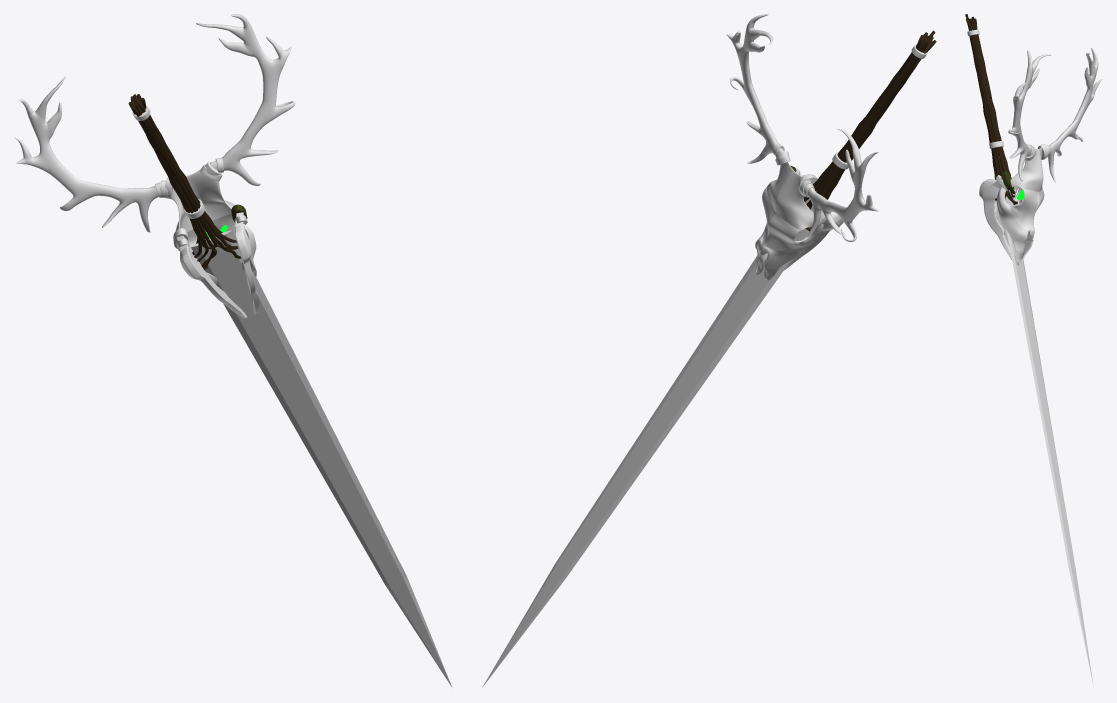
The model's file is deerSword.fbx.
3 renders of one model, left to right at view 1: azimuth 30°, elevation 25°; view 2: azimuth 150°, elevation 25°; view 3: azimuth 270°, elevation 25°, orthographic. The views are drawn at different scales.
Parts seen in each view (by area): view 1: Sword, Horns, UpperSkull, BottomJav; view 2: Sword, Horns, UpperSkull; view 3: Sword, UpperSkull, Horns, BottomJav, Cylinder.001, Cylinder.008, Cylinder.012, Cylinder.004, Cylinder.009, Cylinder.015.
Boxes of the visible parts, left/top/right/bottom form: Sword: left=191, top=230, right=452, bottom=687; Horns: left=14, top=14, right=294, bottom=232; UpperSkull: left=172, top=168, right=256, bottom=284; BottomJav: left=176, top=212, right=259, bottom=318; Sword: left=482, top=196, right=812, bottom=687; Horns: left=726, top=14, right=878, bottom=241; UpperSkull: left=755, top=159, right=823, bottom=280; Sword: left=1005, top=190, right=1093, bottom=686; UpperSkull: left=996, top=147, right=1044, bottom=265; Horns: left=1008, top=47, right=1102, bottom=182; BottomJav: left=979, top=177, right=1018, bottom=260; Cylinder.001: left=965, top=14, right=1005, bottom=199; Cylinder.008: left=969, top=18, right=1017, bottom=204; Cylinder.012: left=968, top=19, right=1005, bottom=171; Cylinder.004: left=966, top=19, right=1007, bottom=200; Cylinder.009: left=969, top=36, right=999, bottom=175; Cylinder.015: left=972, top=19, right=1013, bottom=199.
Size of the model in its own units: 1808 by 3058 by 697.
